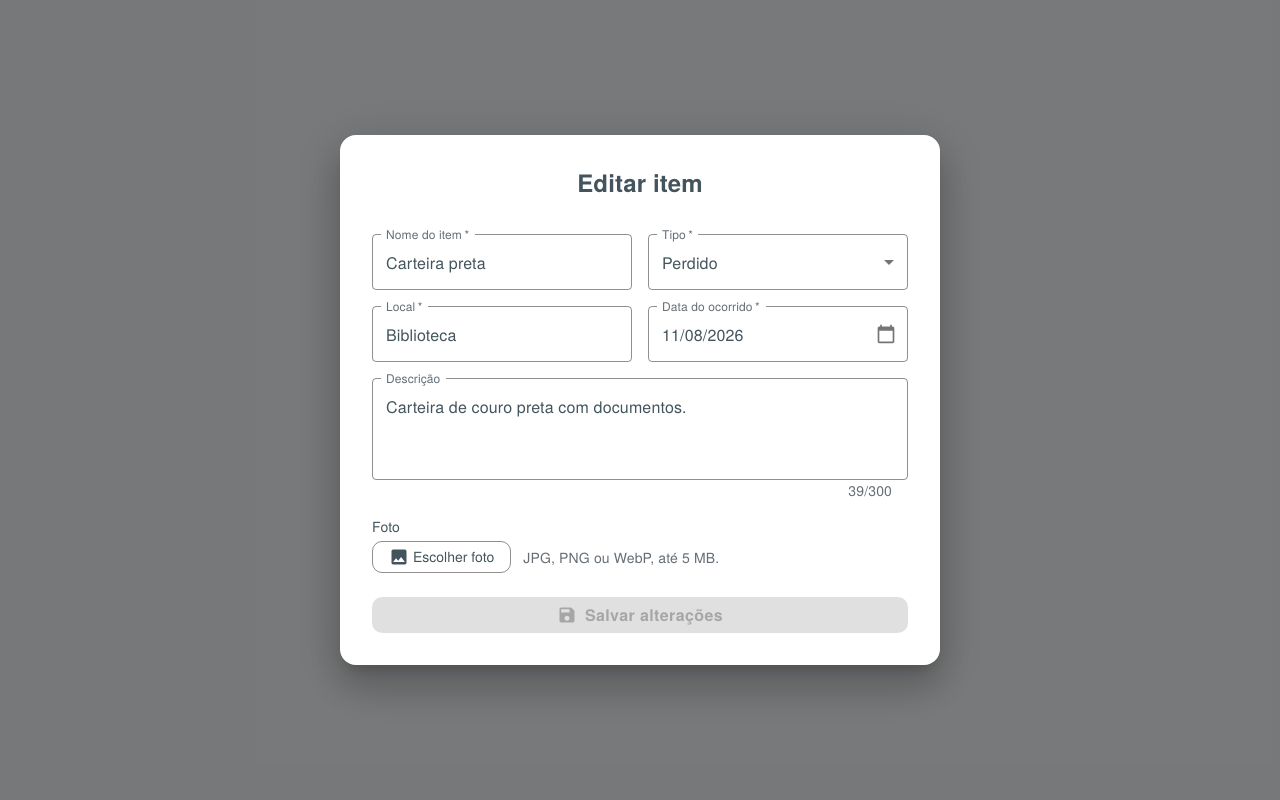
Test: LostItemFormDialog › should hold the save again once the name goes back to the stored one
This screenshot has width=1280, height=800.
expect the heading "Editar item" is shown: met, box [577, 165, 703, 199]
Step 1. Replace the text in the field labelled "Nome do item *" with "Carteira marrom" → (502, 262), box [372, 234, 632, 290]
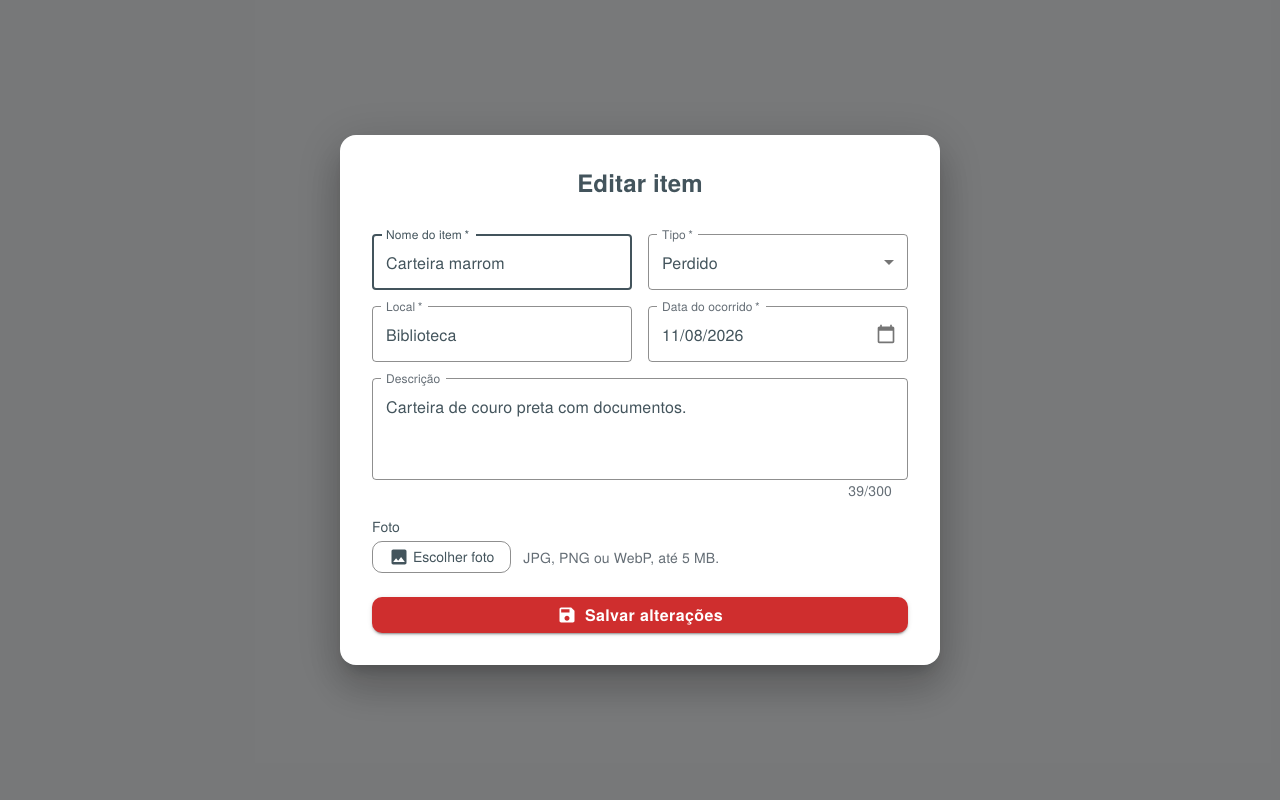
expect the button "Salvar alterações" is enabled: met, box [372, 597, 908, 633]
Step 2. Replace the text in the field labelled "Nome do item *" with "Carteira preta" → (502, 262), box [372, 234, 632, 290]
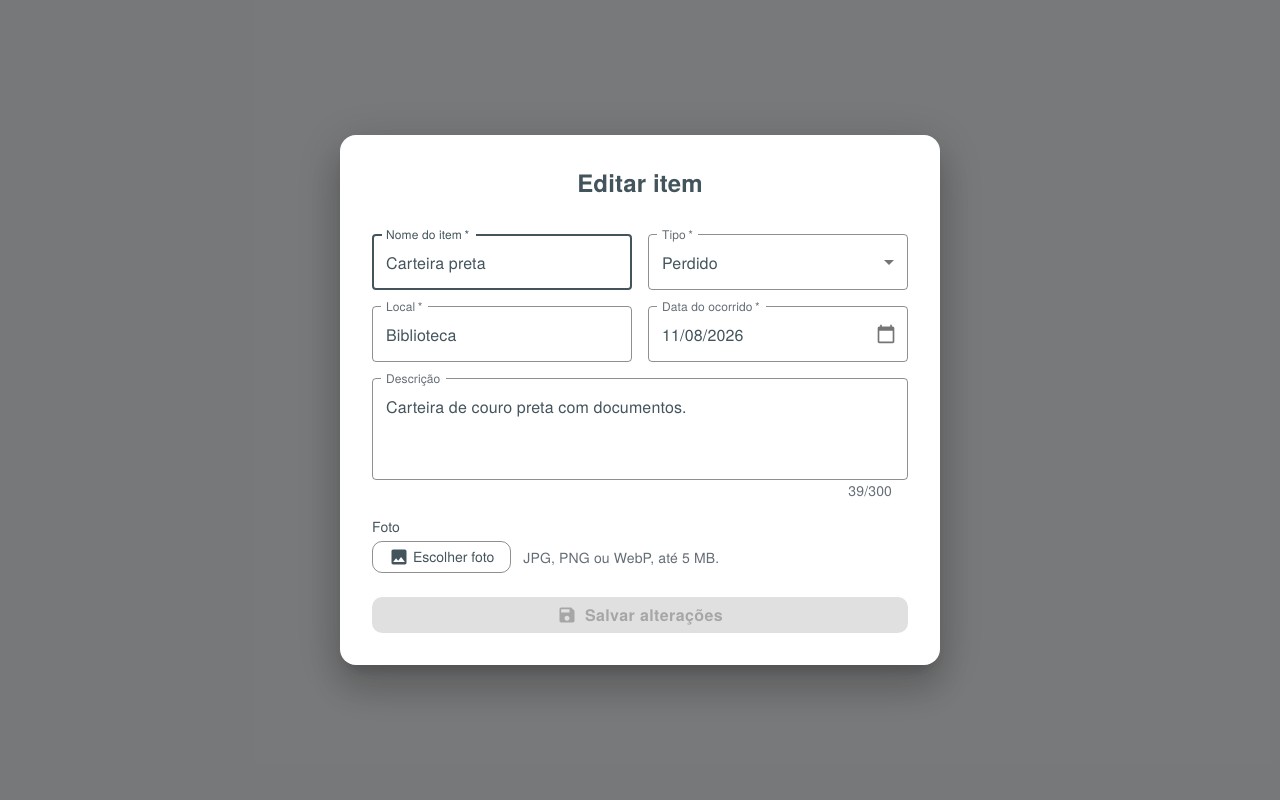
expect the button "Salvar alterações" is disabled: met, box [372, 597, 908, 633]
